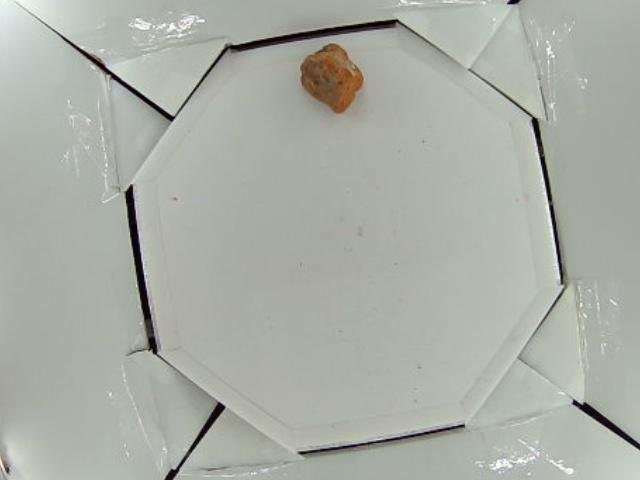Brisk: (301, 43, 363, 113)
